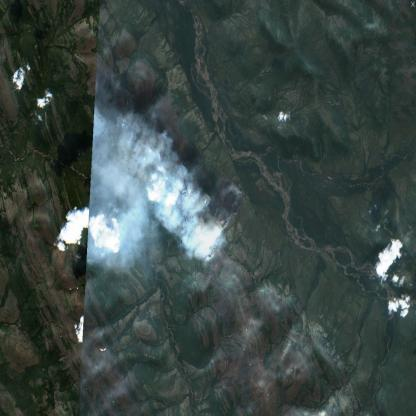fire: (200, 170, 249, 239)
